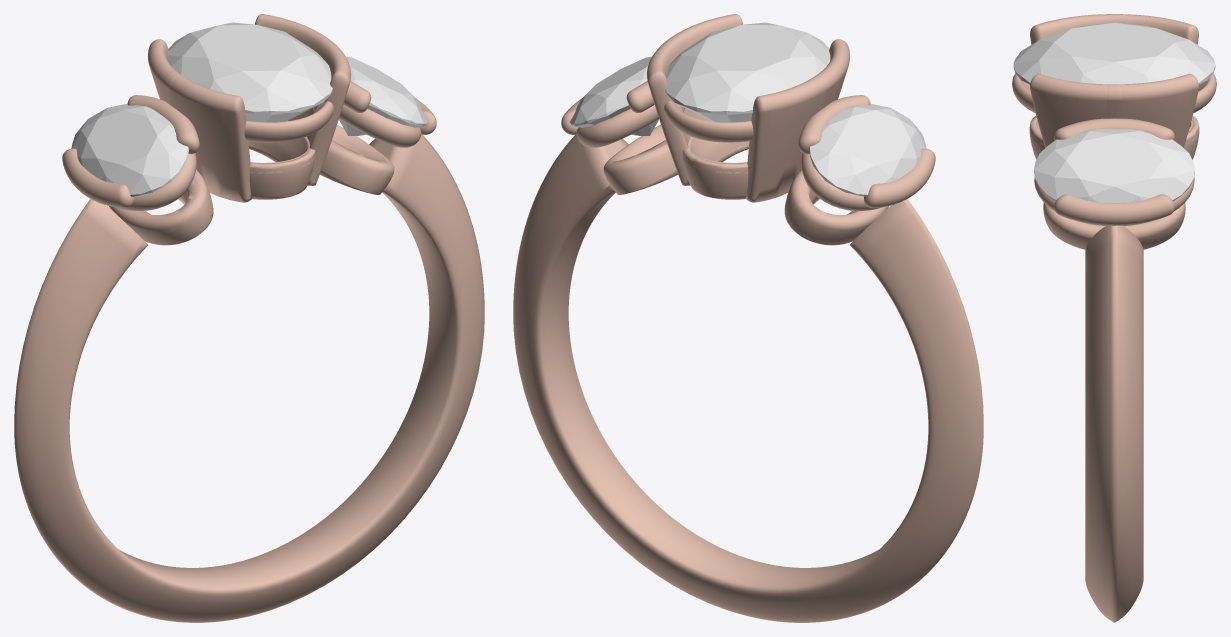
File: diamond-oval-rosegold-halfmoonbezel-knifeedge-3stone.glb
3 views of the same model, side by side, from view 1: azimuth 30°, elevation 25°; view 2: azimuth 150°, elevation 25°; view 3: azimuth 270°, elevation 25° (orthographic). The views are drawn at different scales.
Parts seen in each view (by area): view 1: metal, stone.003, side.006, side.007; view 2: metal, stone.003, side.006, side.007; view 3: metal, side.007, stone.003.
Part boxes in pixels (x1,y1,x2,y2): metal: (14, 14, 484, 622); stone.003: (167, 22, 332, 122); side.006: (71, 103, 189, 196); side.007: (339, 56, 427, 135); metal: (513, 14, 983, 622); stone.003: (665, 22, 830, 122); side.006: (808, 103, 926, 196); side.007: (570, 56, 658, 135); metal: (1012, 14, 1216, 622); side.007: (1034, 129, 1194, 202); stone.003: (1013, 22, 1215, 84).
Size of the model in its own units: 20.1 by 23.2 by 7.75.
